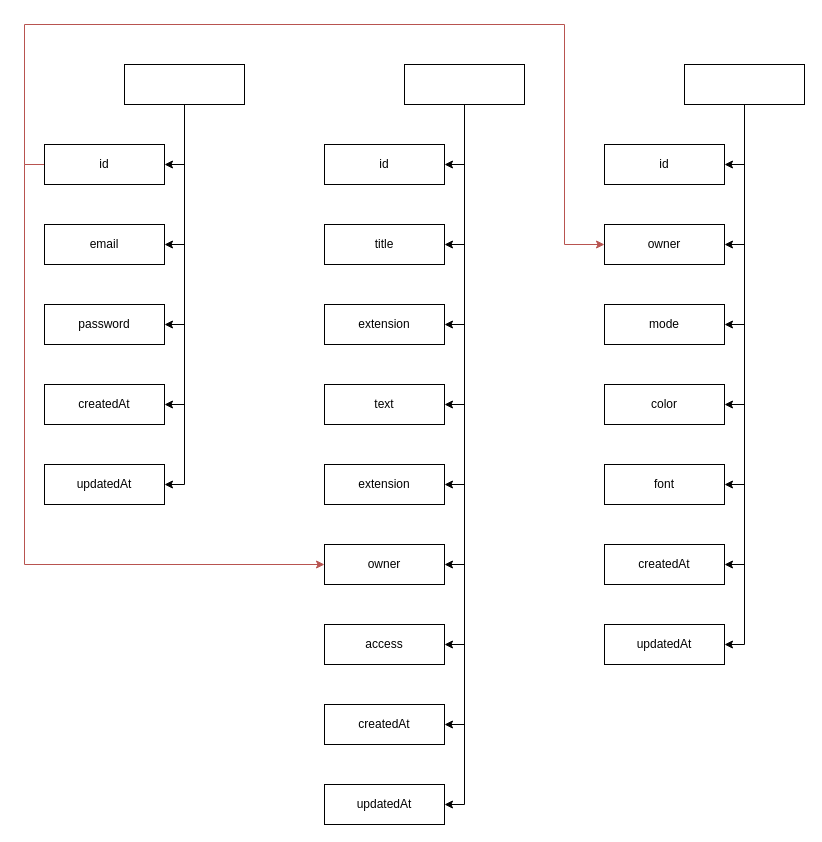
Image size: 822x842. Some labels were removed from this diagram. Here are the shapes that lost their labels. From the top down, the centre of each, then its label:
(x=184, y=84): USER
(x=464, y=84): DOCUMENT
(x=744, y=84): SETTINGS
